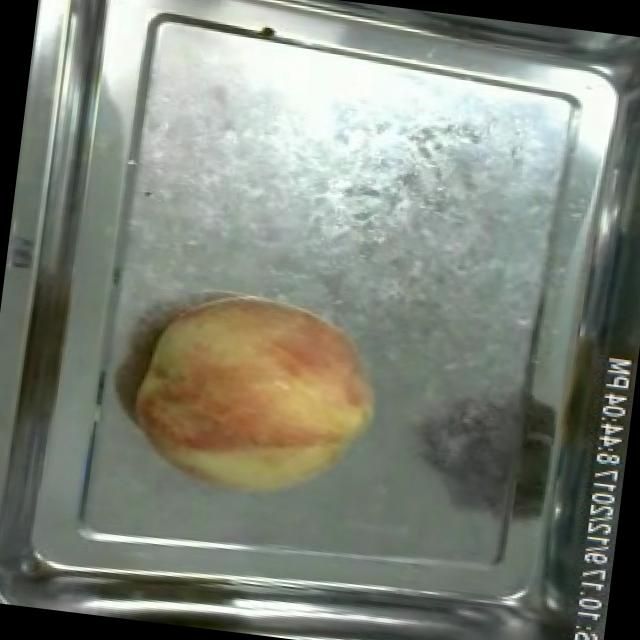Fruit: (120, 272, 397, 518)
